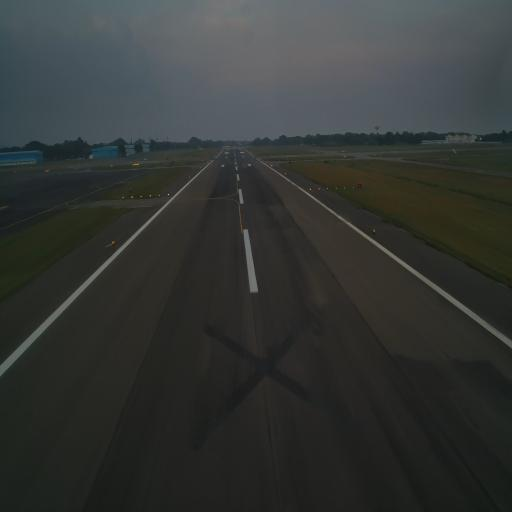on: (110, 239, 117, 246), (372, 227, 377, 235), (138, 194, 144, 200), (122, 196, 126, 202), (130, 194, 134, 200), (148, 193, 152, 199), (326, 186, 330, 192), (167, 192, 170, 199), (309, 186, 312, 193), (335, 185, 338, 192), (318, 187, 322, 192), (158, 192, 161, 198), (352, 185, 354, 190), (344, 186, 346, 190)
